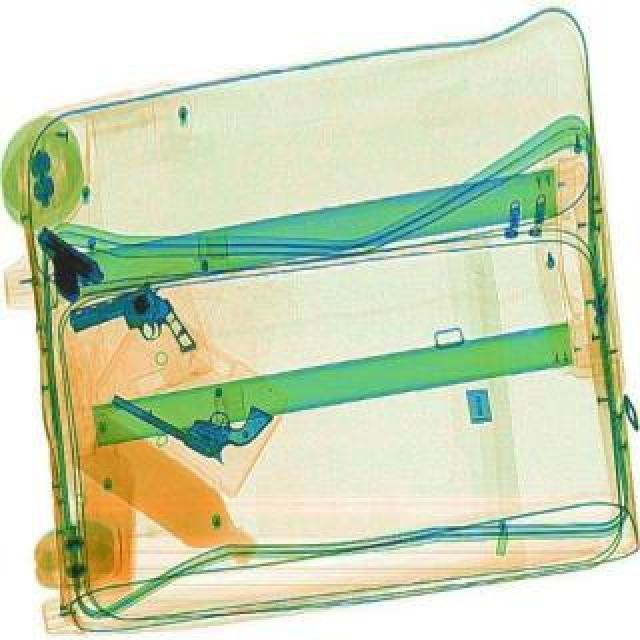gun: (108, 344, 274, 470), (62, 270, 198, 380), (16, 218, 112, 310)
